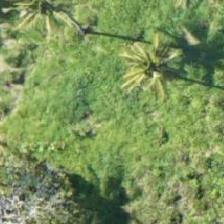coconut_tree: (108, 30, 198, 120)
